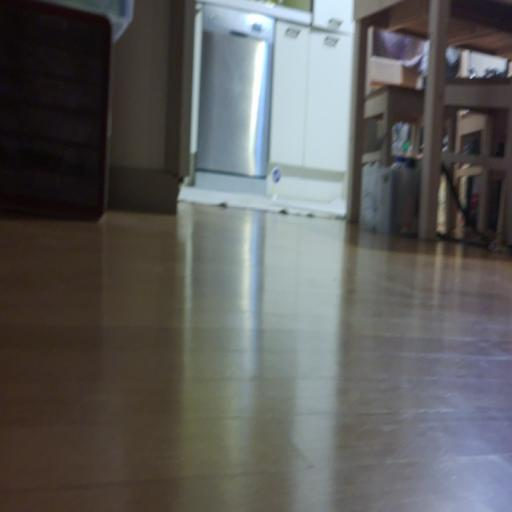target: (272, 167, 282, 183)
